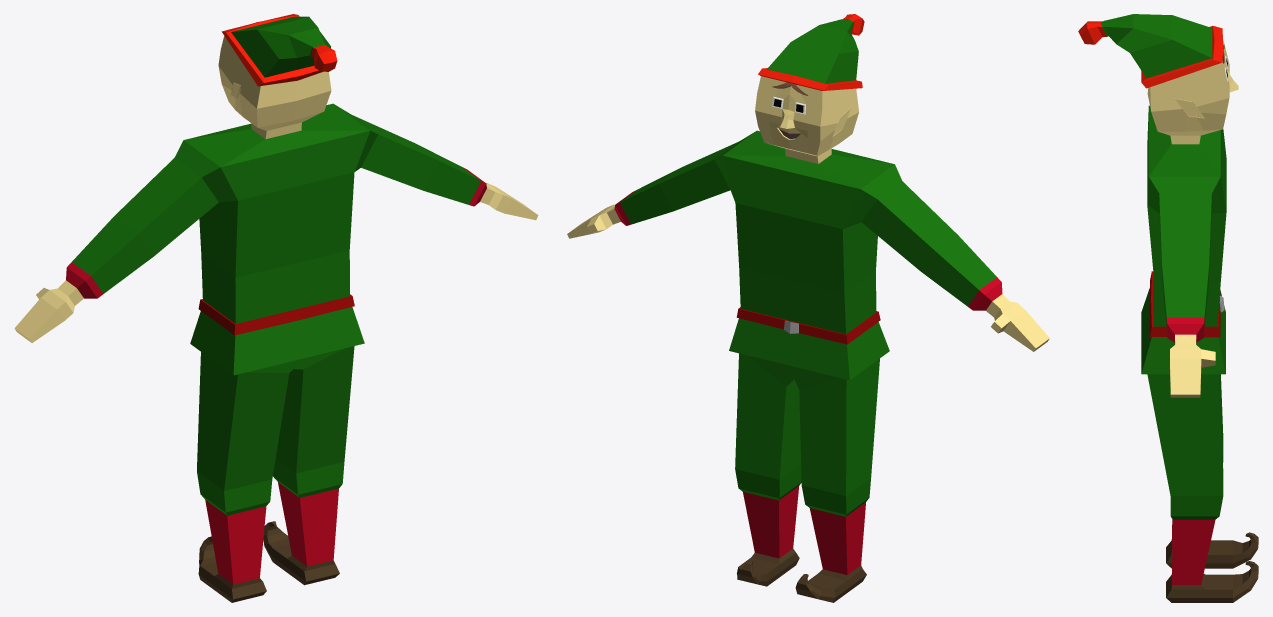
Rendered from Elf.fbx.
3 renders of one model, left to right at view 1: azimuth 30°, elevation 25°; view 2: azimuth 150°, elevation 25°; view 3: azimuth 270°, elevation 25°, orthographic. The views are drawn at different scales.
Parts seen in each view (by area): view 1: Cube; view 2: Cube; view 3: Cube.
Part boxes in pixels (x1=…): Cube: x1=14, y1=14, x2=538, y2=602; Cube: x1=567, y1=14, x2=1049, y2=602; Cube: x1=1078, y1=14, x2=1258, y2=602.
Size of the model in its own units: 172 by 185 by 54.31.
